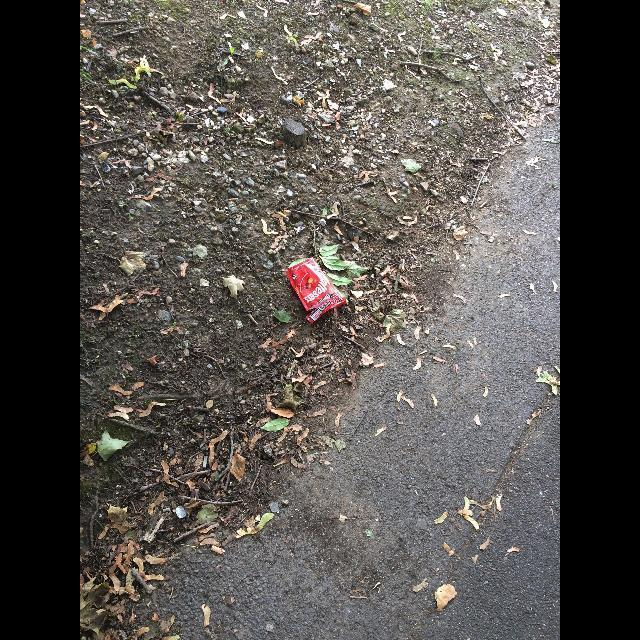Plastic: (286, 257, 346, 323)
